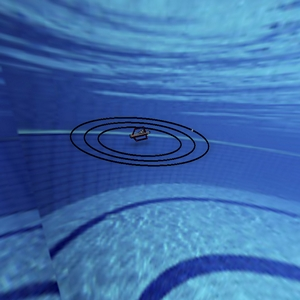circle: (48, 94, 226, 185)
submarine: (124, 123, 156, 147)
